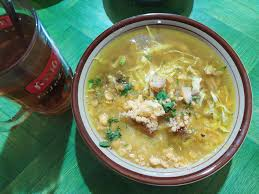Soto: (83, 21, 239, 175)
